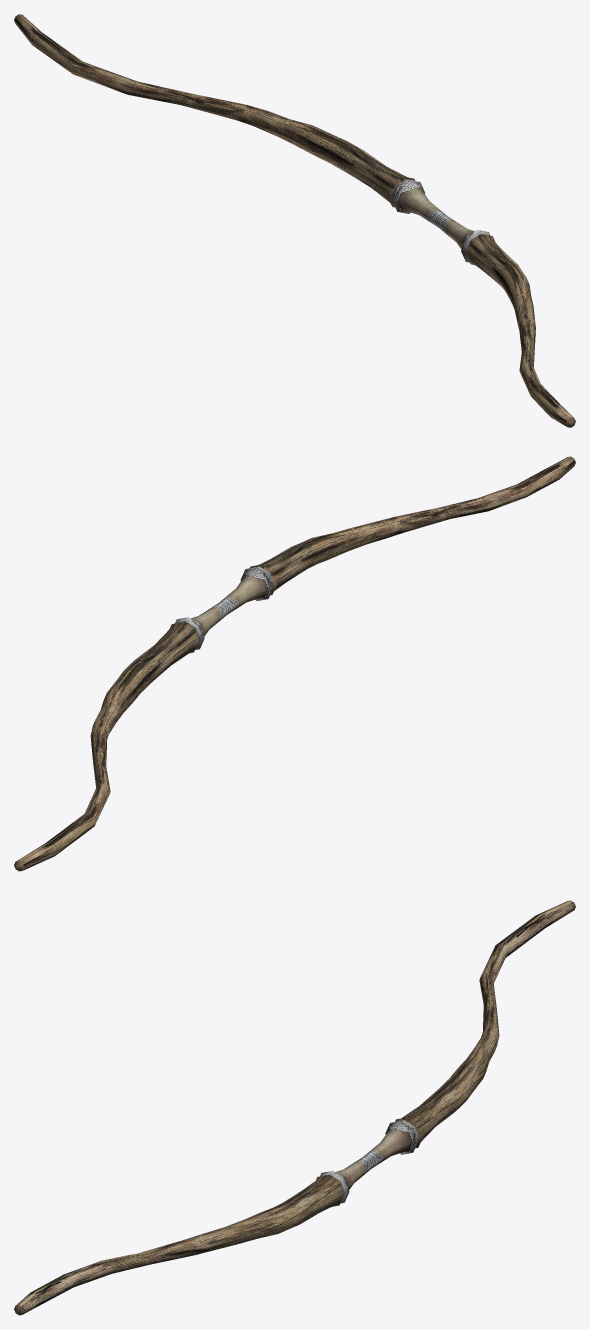
The model's file is bow_l_hioki_bow_hioki_bow1.glb.
The picture shows the model from 3 angles, top to bottom: view 1: azimuth 30°, elevation 25°; view 2: azimuth 150°, elevation 25°; view 3: azimuth 330°, elevation 25°; orthographic projection.
Size of the model in its own units: 0.3061 by 0.0714 by 2.1.
1 material, 1 textured.
